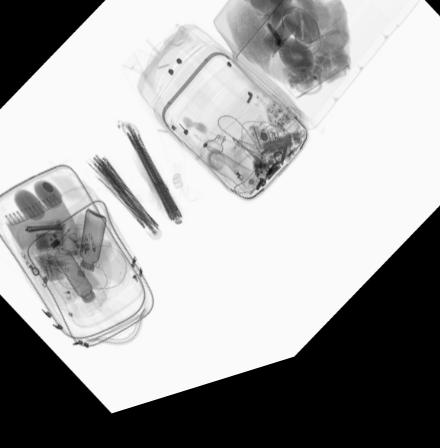Lighter: (279, 30, 283, 57)
